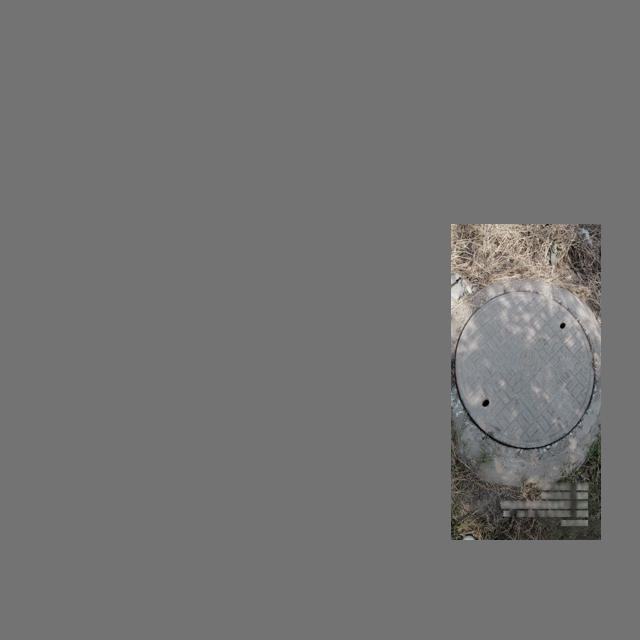good: (451, 279, 601, 459)
